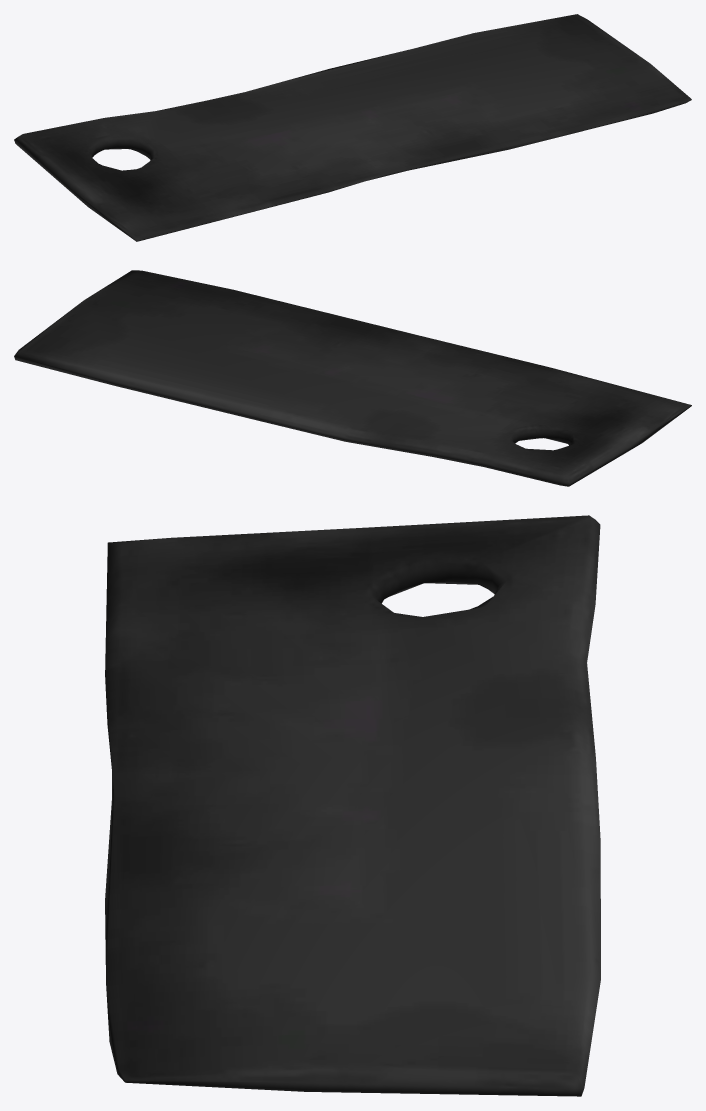
The model's file is metal-blade.glb.
3 views of the same model, one above another, from view 1: azimuth 30°, elevation 25°; view 2: azimuth 150°, elevation 25°; view 3: azimuth 270°, elevation 25° (orthographic). The views are drawn at different scales.
Parts seen in each view (by area): view 1: metalBlade_LOD0; view 2: metalBlade_LOD0; view 3: metalBlade_LOD0.
Boxes of the visible parts, box(x1,y1,x2,y2) form: metalBlade_LOD0: box(14, 14, 691, 241); metalBlade_LOD0: box(14, 270, 691, 486); metalBlade_LOD0: box(105, 515, 600, 1096).
Bounding box in the file's own units: 0.6041 × 0.023 × 0.2311.
Materials: 1 (1 with a texture image).
